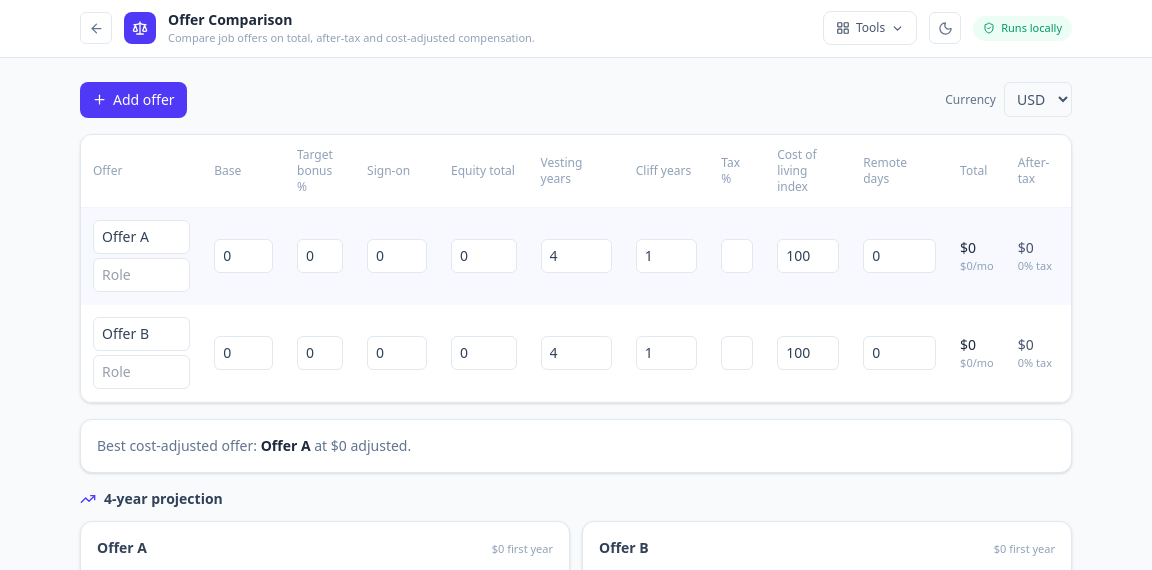
Test case: OfferCompareApp › computes the total from the base salary
Replace the text in the number field named "Base Offer A" with "100000": (244, 256) [214,238,273,272]
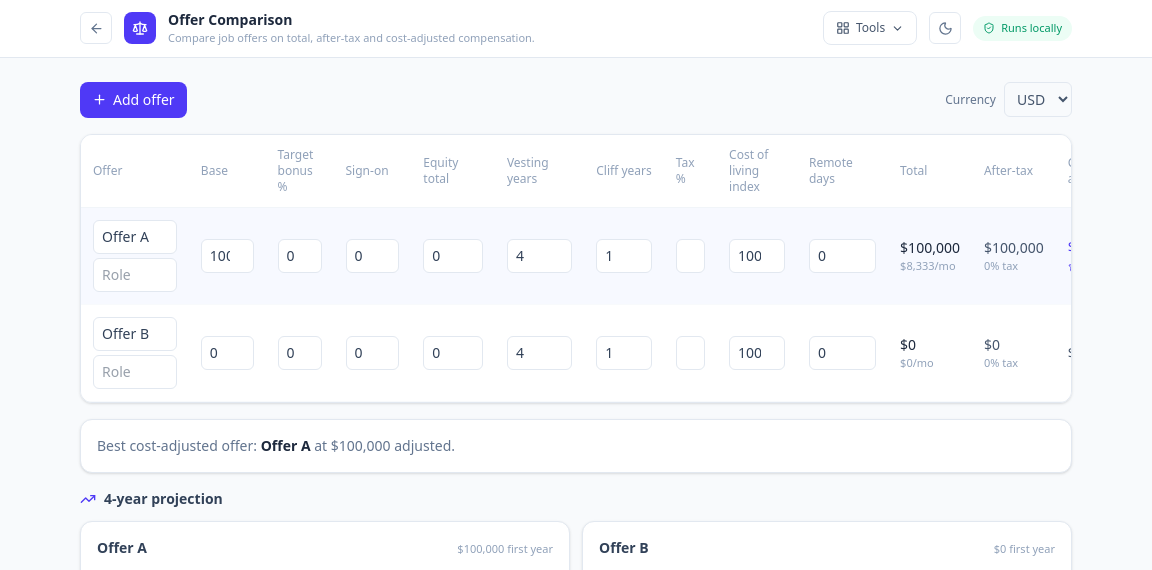
Check: the 1st text "$100,000" is shown, box [900,238,960,257]
